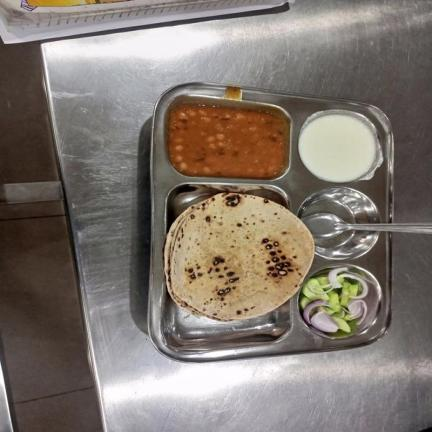Chhole: (169, 104, 286, 178)
Dahi: (300, 114, 375, 181)
Plate: (148, 83, 395, 363)
Roti: (165, 192, 316, 322)
Salad: (300, 268, 368, 335)
